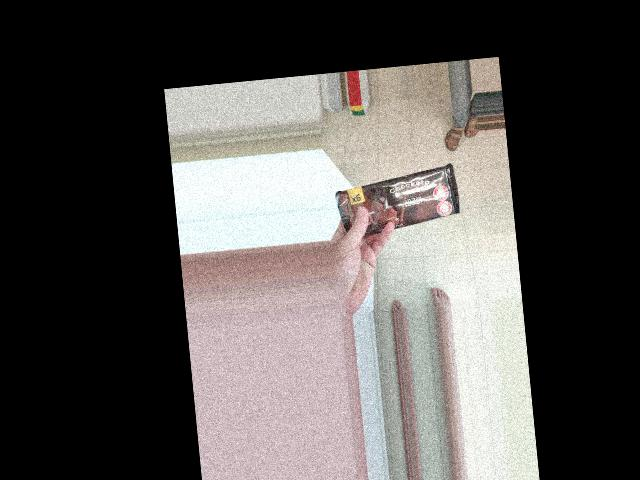chocolate: (330, 163, 462, 252)
